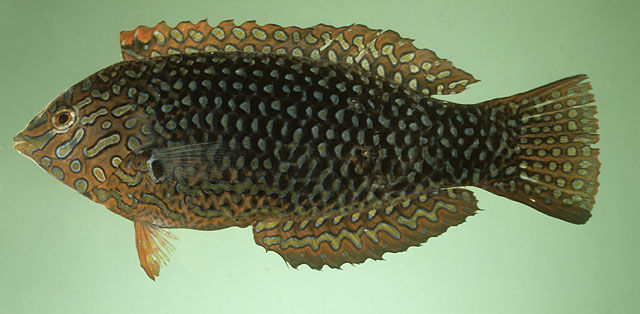fish: (12, 19, 600, 283)
